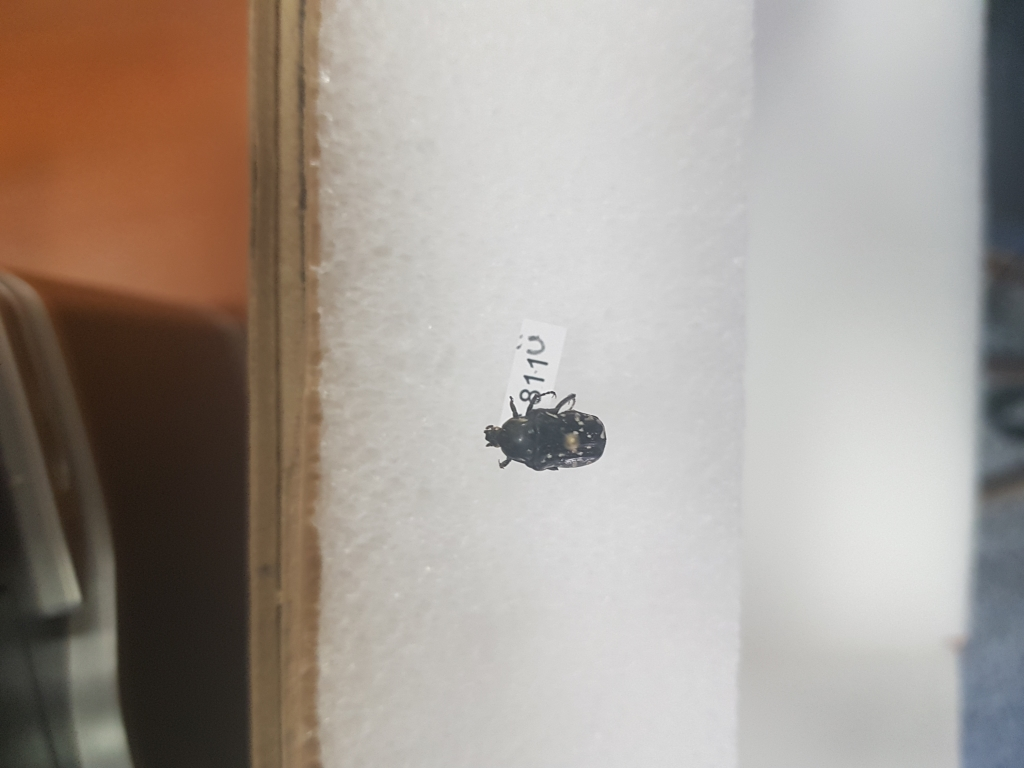Oxythyrea_albopicta: (480, 385, 611, 478)
